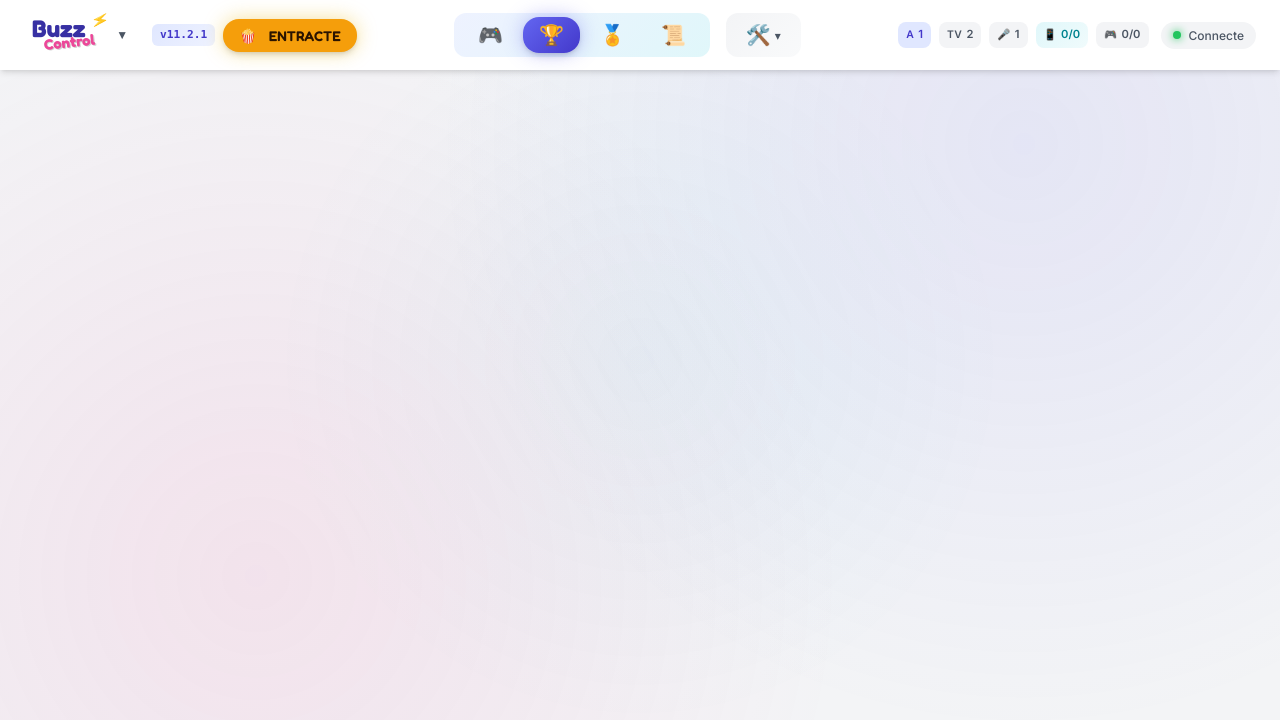
Test: Navbar — a11y (#242) › menu « Préparation » ouvert (< 1685 px) : aucun div[aria-label] sans rôle
Click the button named "Préparation" at [763, 35], box [734, 17, 793, 53]
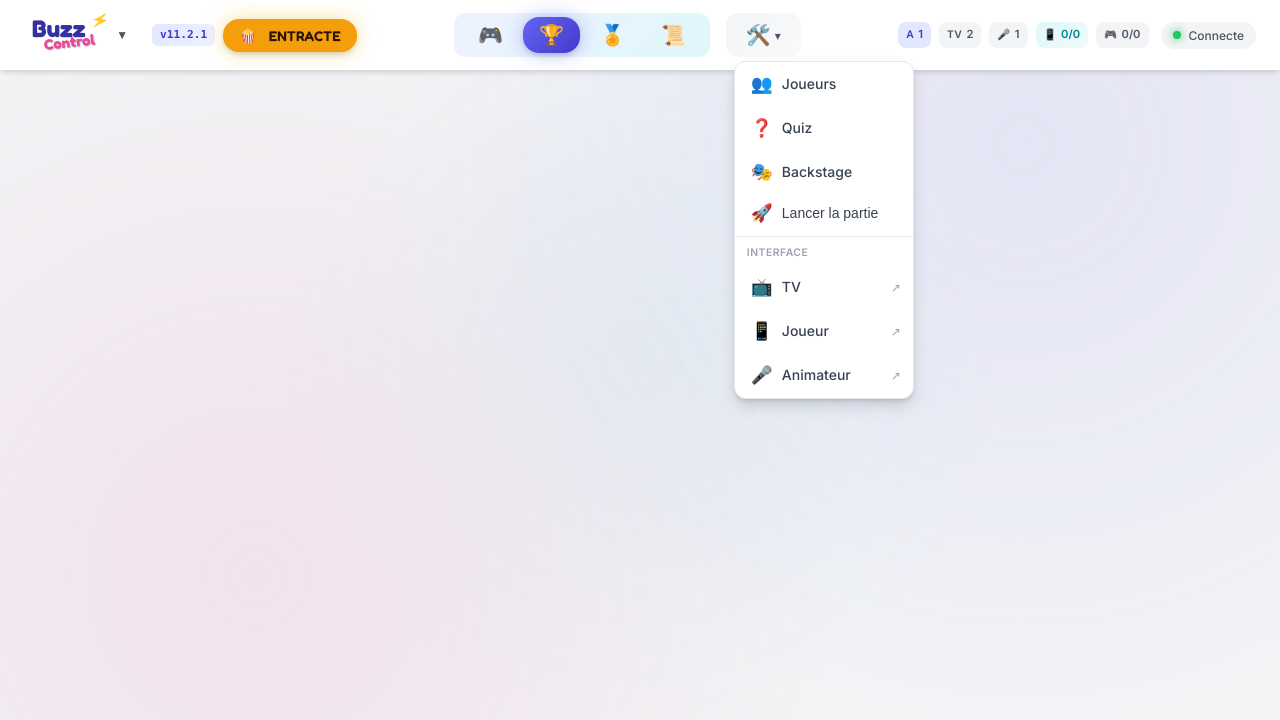
Check: the element with class "navgroup-dropdown" is shown, box [734, 61, 914, 399]
